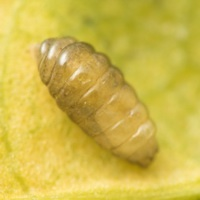insect: (38, 37, 157, 165)
